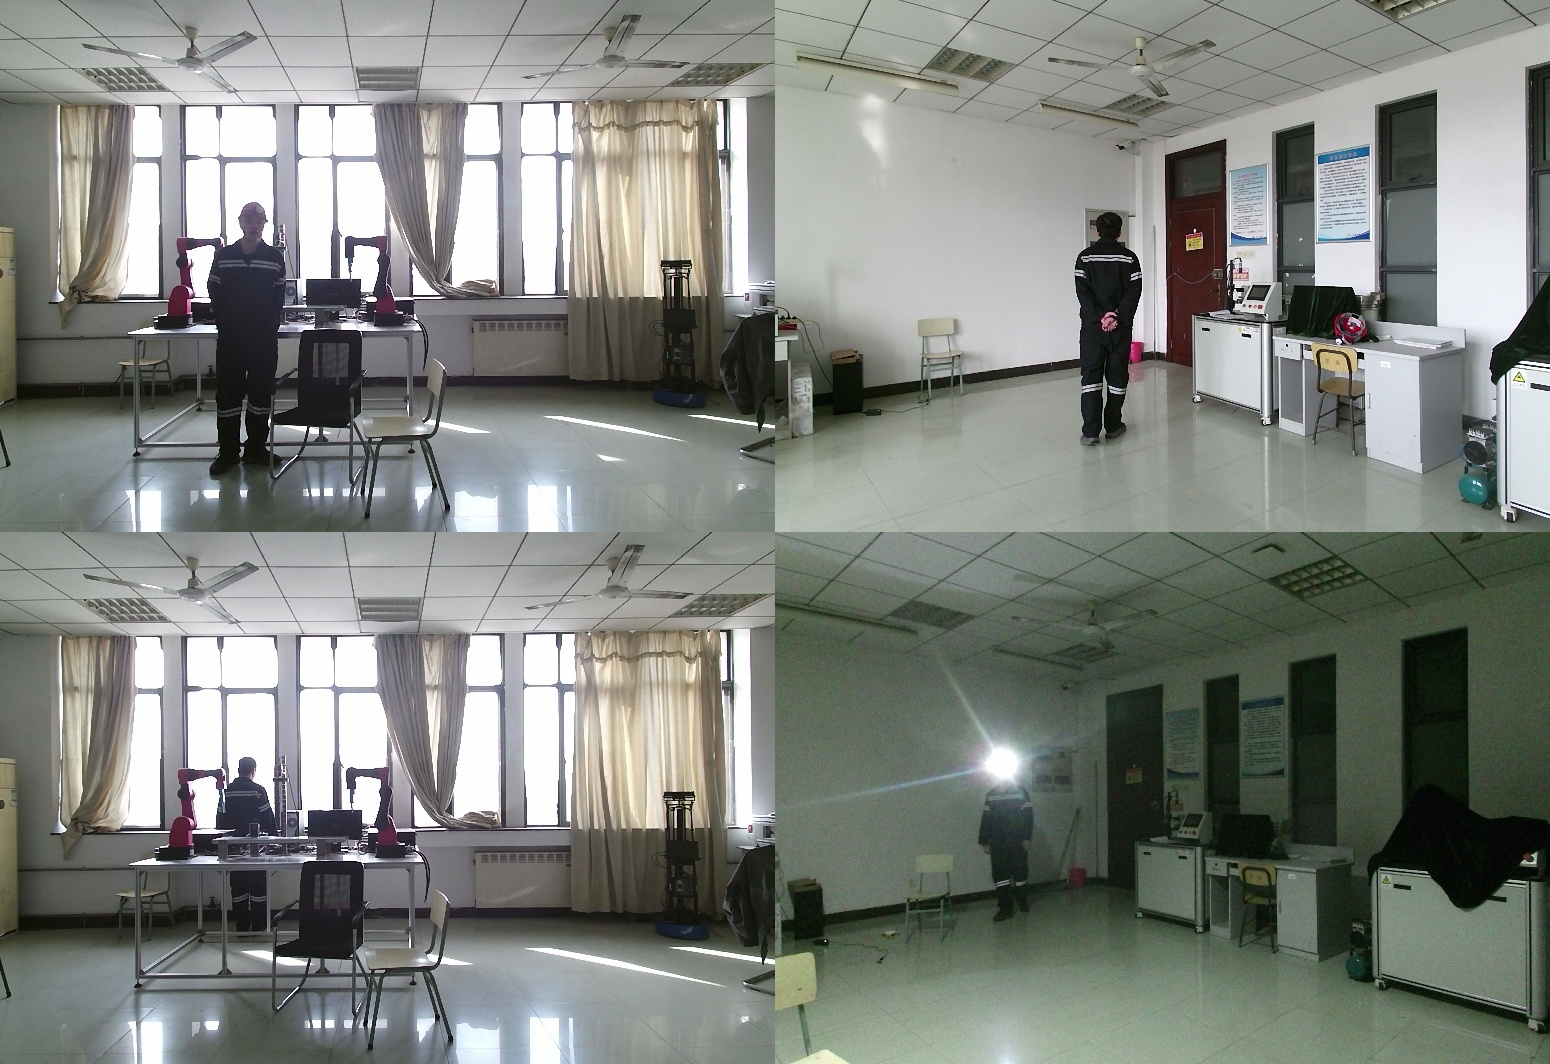person: (206, 202, 290, 479), (1064, 211, 1147, 448), (218, 760, 278, 942), (981, 760, 1038, 928)
